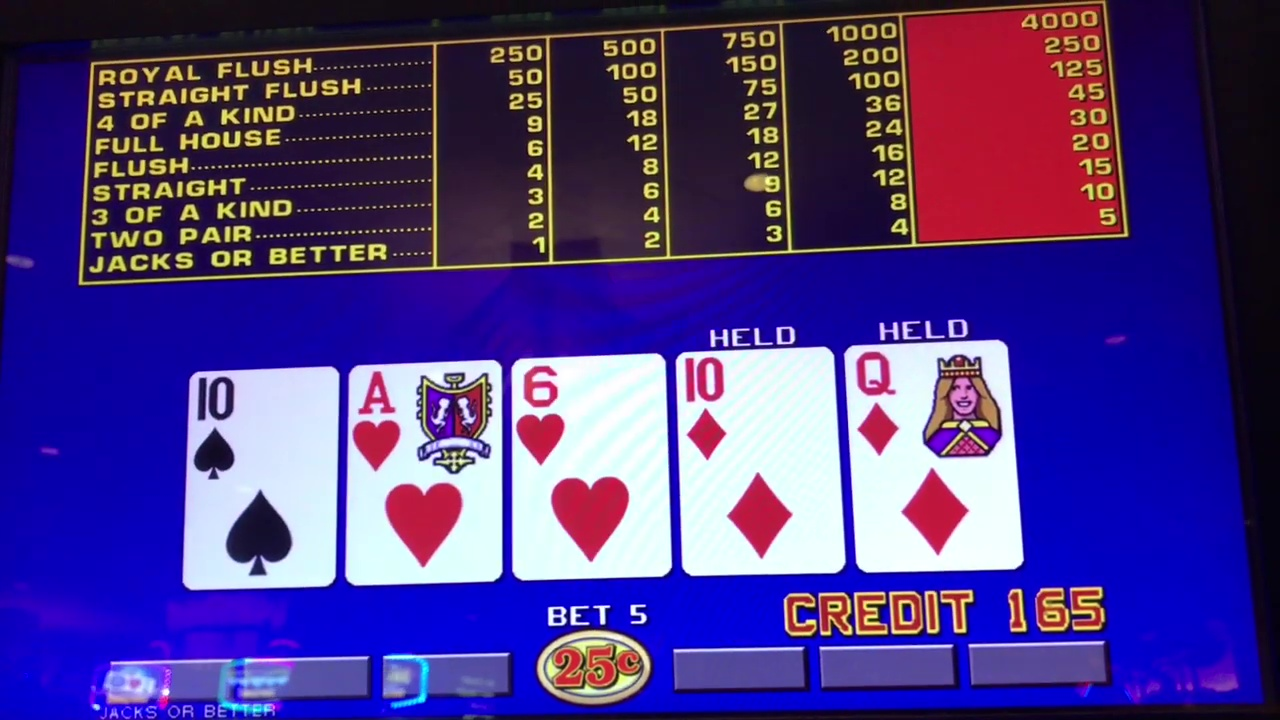DQ: (855, 350, 1003, 570)
DT: (683, 351, 833, 572)
H6: (513, 356, 665, 577)
HA: (355, 365, 491, 578)
ST: (194, 367, 325, 586)
